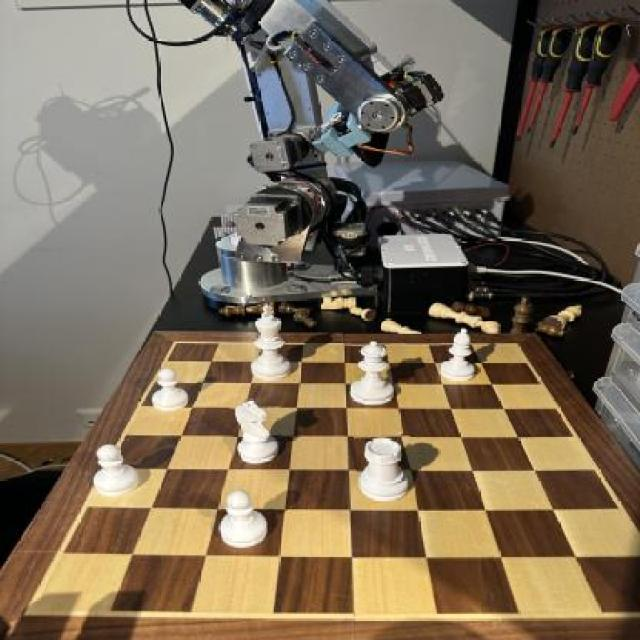black-rook: (440, 328, 477, 380)
white-bishop: (243, 306, 296, 380)
white-king: (231, 399, 283, 463)
white-knight: (212, 486, 276, 549), (86, 448, 142, 500), (138, 368, 198, 415)
white-pawn: (351, 337, 407, 406)
white-queen: (356, 436, 416, 504)
